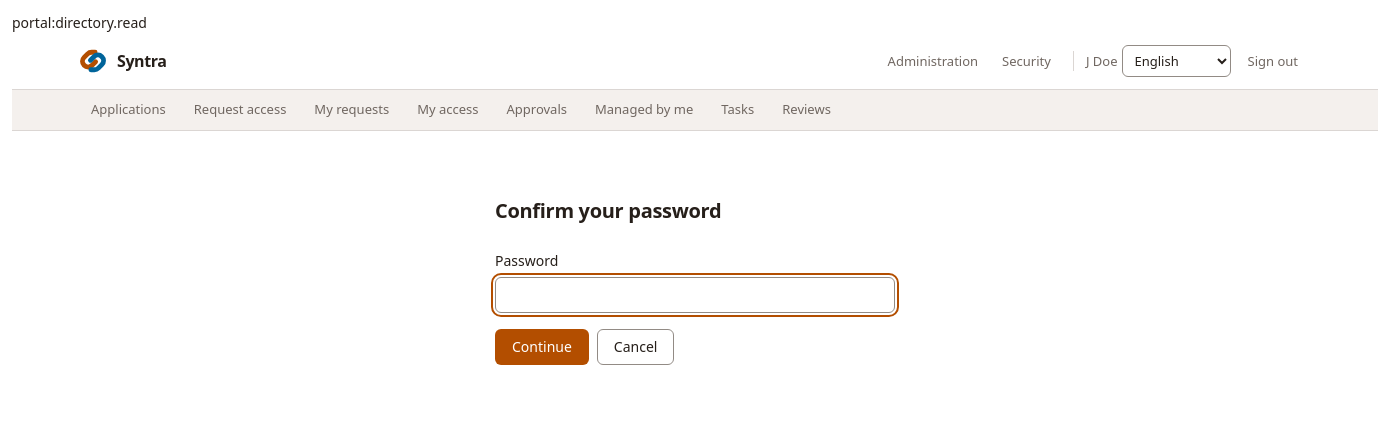
Test: Elevate › says so when the account holds no administrative role
Expected: the text "portal:directory.read" is shown, [12,13,147,32]
In the password field labelled "Password": (695,295) [495,277,895,313], type "secret"
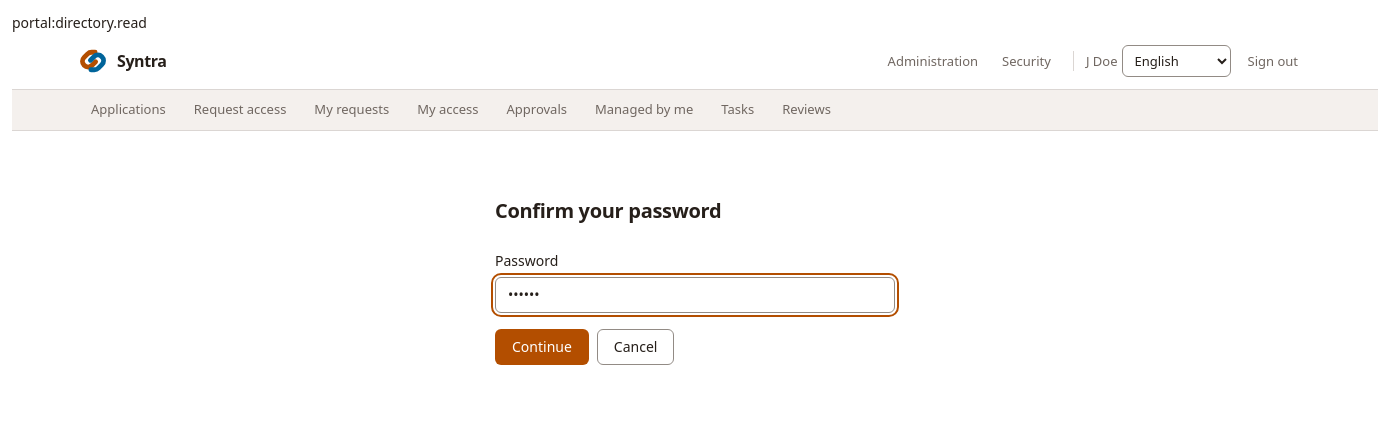
Click the button "Continue": (542,347) [495,329,589,365]
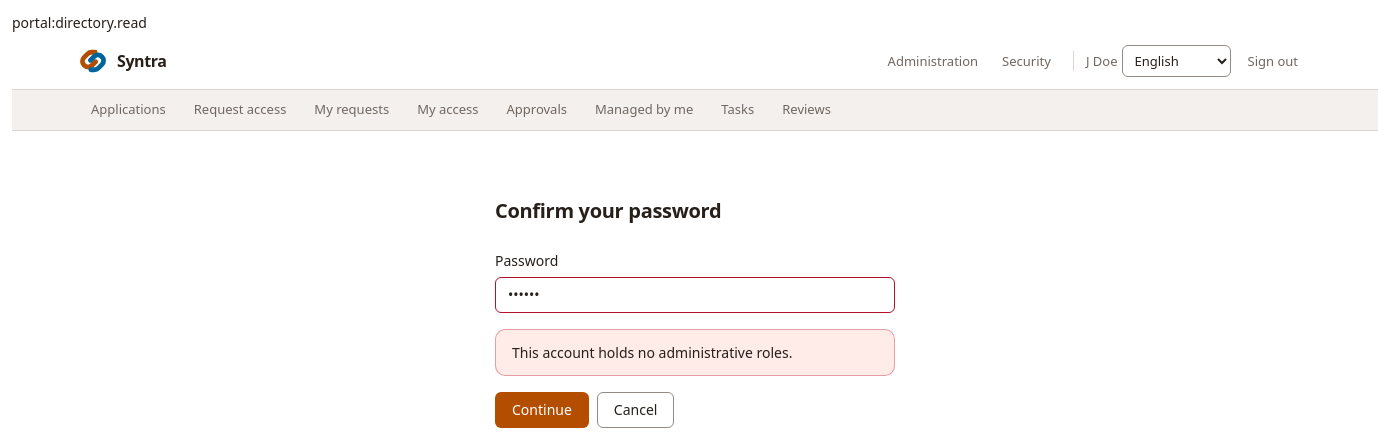
Expected: the message shows "no administrative roles", [512,343,792,362]
